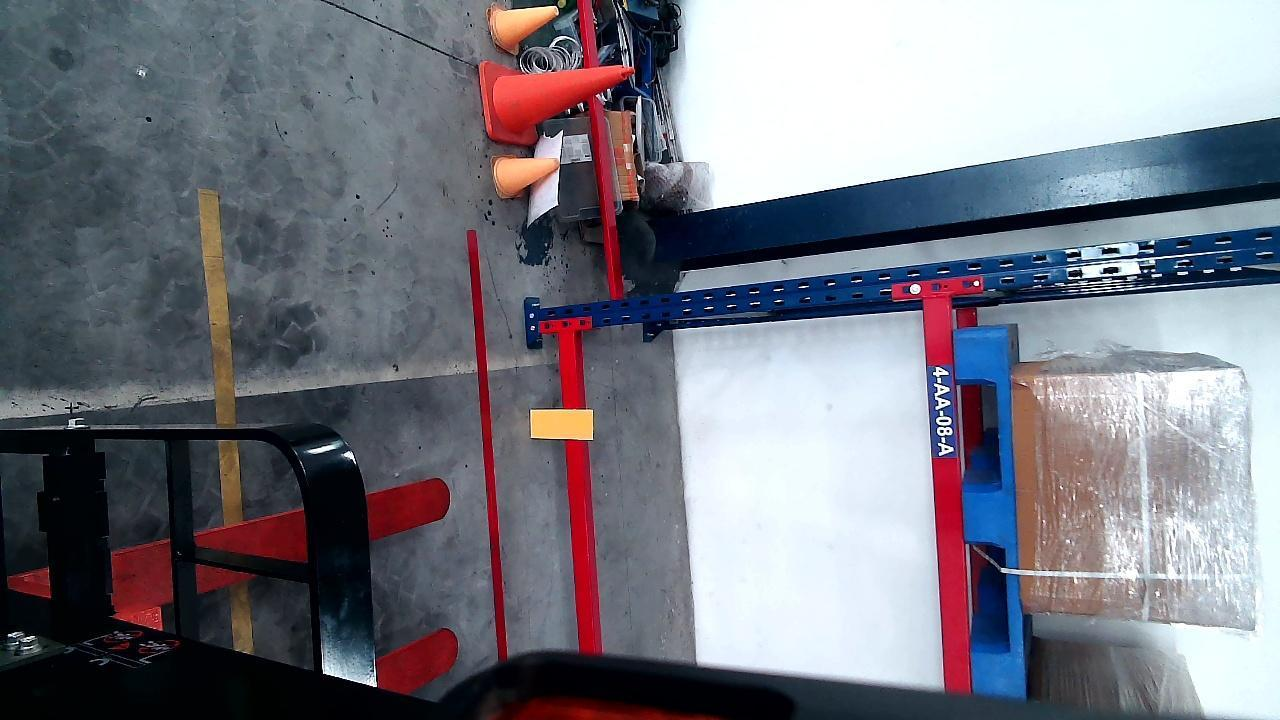h_rack: (925, 292, 969, 692), (560, 330, 598, 650)
orange_strip: (532, 409, 592, 440)
red_line: (467, 230, 505, 665)
small_pallet: (959, 332, 1024, 683)
yellow_line: (200, 176, 253, 658)
